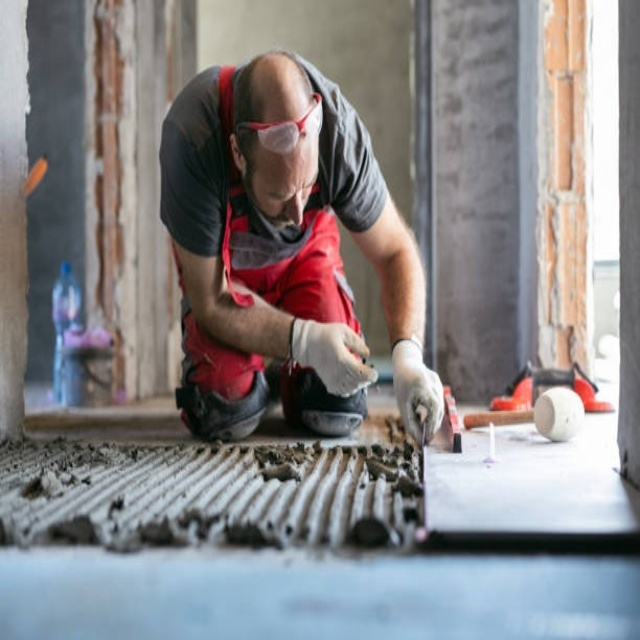Guantes: (289, 317, 379, 398), (391, 337, 446, 445)
Sin_gafas: (254, 154, 324, 199)
Sin_mascara: (265, 209, 311, 240)
